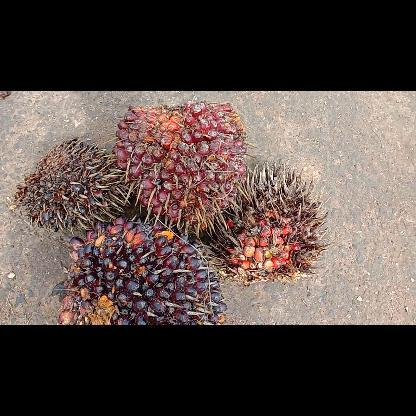Kurang masak: (55, 214, 229, 324)
TBS abnormal: (13, 135, 131, 229)
TBS masak: (112, 100, 248, 235)
Terlalu masak: (209, 158, 335, 284)
